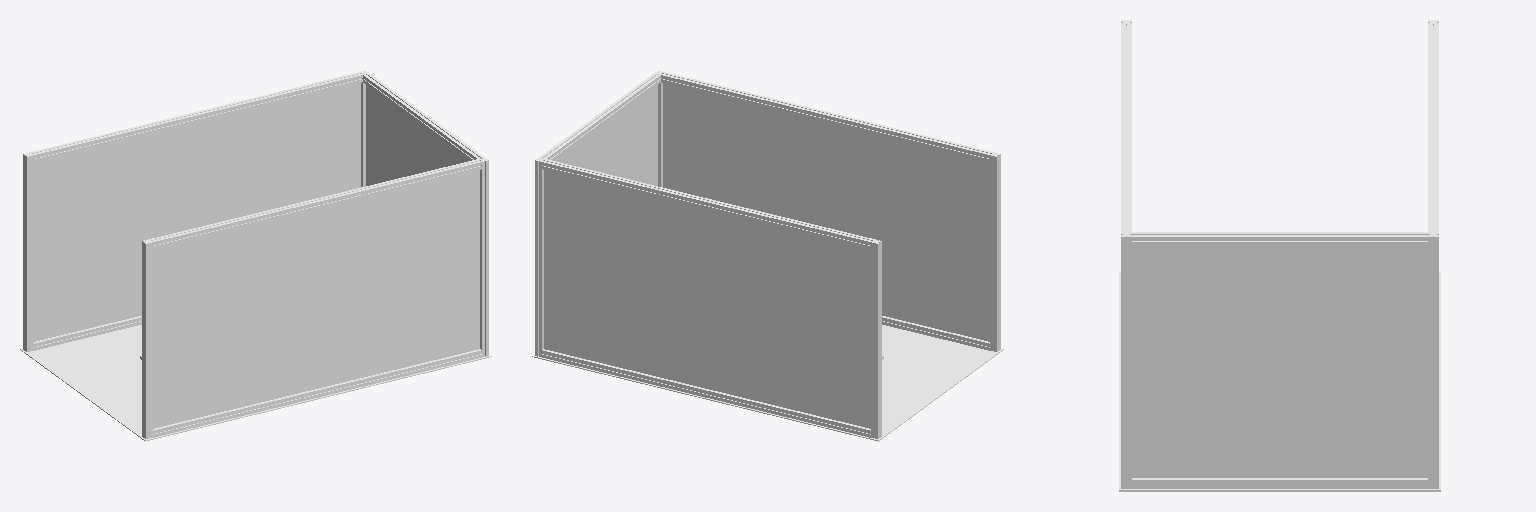
The robot description file, URDF, robot "irb120_workcell":
<?xml version="1.0" ?>
<!-- =================================================================================== -->
<!-- |    This document was autogenerated by xacro from irb120_workcell.xacro          | -->
<!-- |    EDITING THIS FILE BY HAND IS NOT RECOMMENDED                                 | -->
<!-- =================================================================================== -->
<robot name="irb120_workcell" xmlns:xacro="http://ros.org/wiki/xacro">
  <link name="world_frame"/>
  <!-- Defining the robotic enclosure-->
  <link name="enclosure">
    <visual>
      <origin rpy="1.57079633 0 3.14159266" xyz="1 -0.625 0"/>
      <geometry>
        <mesh filename="package://irb120_workcell_config/meshes/enclosure.STL" scale="0.001 0.001 0.001"/>
      </geometry>
      <material name="glass">
        <color rgba="1 1 1 0.3"/>
      </material>
    </visual>
  </link>
  <joint name="enclosure_to_world" type="fixed">
    <parent link="world_frame"/>
    <child link="enclosure"/>
    <origin rpy="0 0 0" xyz="0.45 0 0"/>
  </joint>
  <!-- Defining the robot and mounting it in the enclosure -->
  <link name="base_link">
    <visual>
      <origin rpy="1.57079633 0 0" xyz="0 0 0"/>
      <geometry>
        <mesh filename="package://abb_irb120_support/meshes/irb120/visual/base_link.stl" scale="0.0254 0.0254 0.0254"/>
      </geometry>
      <material name="abb_orange">
        <color rgba="1 0.43 0 1"/>
      </material>
    </visual>
    <collision>
      <geometry>
        <mesh filename="package://abb_irb120_support/meshes/irb120/collision/base_link.stl" scale="0.0254 0.0254 0.0254"/>
      </geometry>
      <material name="yellow">
        <color rgba="0 1 1 1"/>
      </material>
    </collision>
  </link>
  <link name="link_1">
    <visual>
      <origin rpy="1.57079633 0 0" xyz="0 0 -0.17649952"/>
      <geometry>
        <mesh filename="package://abb_irb120_support/meshes/irb120/visual/link_1.stl" scale="0.0254 0.0254 0.0254"/>
      </geometry>
      <material name="abb_orange"/>
    </visual>
    <collision>
      <origin rpy="1.57079633 0 0" xyz="0 0 -0.17649952"/>
      <geometry>
        <mesh filename="package://abb_irb120_support/meshes/irb120/collision/link_1.stl" scale="0.0254 0.0254 0.0254"/>
      </geometry>
      <material name="yellow"/>
    </collision>
  </link>
  <link name="link_2">
    <visual>
      <origin rpy="1.57079633 0 0" xyz="1.54358428872e-06 -0.115499748015 0.269999754796"/>
      <geometry>
        <mesh filename="package://abb_irb120_support/meshes/irb120/visual/link_2.stl" scale="0.0254 0.0254 0.0254"/>
      </geometry>
      <material name="abb_orange"/>
    </visual>
    <collision>
      <origin rpy="1.57079633 0 0" xyz="1.54358428872e-06 -0.115499748015 0.269999754796"/>
      <geometry>
        <mesh filename="package://abb_irb120_support/meshes/irb120/collision/link_2.stl" scale="0.0254 0.0254 0.0254"/>
      </geometry>
      <material name="yellow"/>
    </collision>
  </link>
  <link name="link_3">
    <visual>
      <origin rpy="1.57079633 0 0" xyz="0.071952848745 -0.0589997805382 -0.0661526901756"/>
      <geometry>
        <mesh filename="package://abb_irb120_support/meshes/irb120/visual/link_3.stl" scale="0.0254 0.0254 0.0254"/>
      </geometry>
      <material name="abb_orange"/>
    </visual>
    <collision>
      <origin rpy="1.57079633 0 0" xyz="0.071952848745 -0.0589997805382 -0.0661526901756"/>
      <geometry>
        <mesh filename="package://abb_irb120_support/meshes/irb120/collision/link_3.stl" scale="0.0254 0.0254 0.0254"/>
      </geometry>
      <material name="yellow"/>
    </collision>
  </link>
  <link name="link_4">
    <visual>
      <origin rpy="1.57079633 0 0" xyz="500.302187012 0.000313229561613 0.00151561224702"/>
      <geometry>
        <mesh filename="package://abb_irb120_support/meshes/irb120/visual/link_4.stl" scale="0.0254 0.0254 0.0254"/>
      </geometry>
      <material name="abb_orange"/>
    </visual>
    <collision>
      <origin rpy="1.57079633 0 0" xyz="500.302187012 0.000313229561613 0.00151561224702"/>
      <geometry>
        <mesh filename="package://abb_irb120_support/meshes/irb120/collision/link_4.stl" scale="0.0254 0.0254 0.0254"/>
      </geometry>
      <material name="yellow"/>
    </collision>
  </link>
  <link name="link_5">
    <visual>
      <origin rpy="1.57079633 0 0" xyz="-0.301998488439 0.0619993114233 -0.629998750685"/>
      <geometry>
        <mesh filename="package://abb_irb120_support/meshes/irb120/visual/link_5.stl" scale="0.0254 0.0254 0.0254"/>
      </geometry>
      <material name="abb_orange"/>
    </visual>
    <collision>
      <origin rpy="1.57079633 0 0" xyz="-0.301998488439 0.0619993114233 -0.629998750685"/>
      <geometry>
        <mesh filename="package://abb_irb120_support/meshes/irb120/collision/link_5.stl" scale="0.0254 0.0254 0.0254"/>
      </geometry>
      <material name="yellow"/>
    </collision>
  </link>
  <link name="link_6">
    <visual>
      <origin rpy="1.57079633 0 0" xyz="-2.74896335695e-07 0.0130000906507 -8.57788299224e-07"/>
      <geometry>
        <mesh filename="package://abb_irb120_support/meshes/irb120/visual/link_6.stl" scale="0.0254 0.0254 0.0254"/>
      </geometry>
      <material name="abb_orange"/>
    </visual>
    <collision>
      <origin rpy="1.57079633 0 0" xyz="-2.74896335695e-07 0.0130000906507 -8.57788299224e-07"/>
      <geometry>
        <mesh filename="package://abb_irb120_support/meshes/irb120/collision/link_6.stl" scale="0.0254 0.0254 0.0254"/>
      </geometry>
      <material name="yellow"/>
    </collision>
  </link>
  <link name="tool0"/>
  <joint name="joint_1" type="revolute">
    <origin rpy="-3.14159265359 -3.14159265359 3.14159265359" xyz="0 8.0162399451E-005 0.17649952"/>
    <parent link="base_link"/>
    <child link="link_1"/>
    <axis xyz="0 0 1"/>
    <limit effort="300" lower="-2.88" upper="2.88" velocity="4.36"/>
    <calibration falling="0" rising="0"/>
    <dynamics damping="0" friction="0"/>
  </joint>
  <joint name="joint_2" type="revolute">
    <origin rpy="3.14159265359 -3.14159265359 0" xyz="0 -0.0574996276953 0.1134999"/>
    <parent link="link_1"/>
    <child link="link_2"/>
    <axis xyz="0 -1 0"/>
    <limit effort="0" lower="-1.9199" upper="1.9199" velocity="4.36"/>
    <calibration falling="0" rising="0"/>
    <dynamics damping="0" friction="0"/>
  </joint>
  <joint name="joint_3" type="revolute">
    <origin rpy="3.14159265359 -3.14159265359 0" xyz="0 -0.108 0.270000153642"/>
    <parent link="link_2"/>
    <child link="link_3"/>
    <axis xyz="0 1 0"/>
    <limit effort="0" lower="-1.9199" upper="1.2217" velocity="4.36"/>
    <calibration falling="0" rising="0"/>
    <dynamics damping="0" friction="0"/>
  </joint>
  <joint name="joint_4" type="revolute">
    <origin rpy="0 0 0" xyz="-500.000188071 -0.060593734446 0.0701403024607"/>
    <parent link="link_3"/>
    <child link="link_4"/>
    <axis xyz="1 0 0"/>
    <limit effort="0" lower="-2.7925" upper="2.7925" velocity="5.585"/>
    <calibration falling="0" rising="0"/>
    <dynamics damping="0" friction="0"/>
  </joint>
  <joint name="joint_5" type="revolute">
    <origin rpy="0 0 0" xyz="500.302186066 -0.0616850168905 0.00151566707848"/>
    <parent link="link_4"/>
    <child link="link_5"/>
    <axis xyz="0 1 0"/>
    <limit effort="0" lower="-2.0944" upper="2.0944" velocity="5.585"/>
    <calibration falling="0" rising="0"/>
    <dynamics damping="0" friction="0"/>
  </joint>
  <joint name="joint_6" type="revolute">
    <origin rpy="-1.5707961734 1.57079621992 0" xyz="0.072000865279 0.0620001796247 0"/>
    <parent link="link_5"/>
    <child link="link_6"/>
    <axis xyz="0 -1 0"/>
    <limit effort="0" lower="-6.9813" upper="6.9813" velocity="7.33"/>
    <calibration falling="0" rising="0"/>
    <dynamics damping="0" friction="0"/>
  </joint>
  <joint name="joint_6-tool0" type="fixed">
    <parent link="link_6"/>
    <child link="tool0"/>
    <origin rpy="0 0 0" xyz="0 0 0"/>
  </joint>
  <joint name="robot_to_enclosure" type="fixed">
    <parent link="world_frame"/>
    <child link="base_link"/>
    <origin rpy="0 0 0" xyz="0 0 0.025"/>
  </joint>
  <!-- Defining the pegboard and placing it in front of the robot-->
  <link name="pegboard">
    <visual>
      <origin rpy="1.57079633 0 -1.57079633" xyz="0.225 0.15 0.01"/>
      <geometry>
        <mesh filename="package://irb120_workcell_config/meshes/pegboard.STL" scale="0.001 0.001 0.001"/>
      </geometry>
      <material name="blue">
        <color rgba="0.3 0.3 1 1"/>
      </material>
    </visual>
  </link>
  <joint name="pegboard_to_floor" type="fixed">
    <parent link="enclosure"/>
    <child link="pegboard"/>
    <origin rpy="0 0 0" xyz="-0.13 0 -0.005"/>
  </joint>
  <!-- Defining the robotic manipulator and mounting it to the robot -->
  <!--   <xacro:s-model_mesh prefix="g_"/>
  <joint name="gripper_to_robot" type="fixed">
    <parent link="tool0"/>
    <child link="g_palm"/>
    <origin xyz="0 -0.161 0" rpy="1.570 -2.356 0"/>
  </joint>
 -->
</robot>

--- Facts derived from the render (not from the file) ---
Views: 3 orthographic renders of the robot side by side, from view 1: azimuth 30°, elevation 25°; view 2: azimuth 150°, elevation 25°; view 3: azimuth 270°, elevation 25°.
Model irb120_workcell with 11 links and 10 joints (6 revolute, 4 fixed), rooted at world_frame, posed every joint at zero.
Links seen in each view (by area): view 1: enclosure; view 2: enclosure; view 3: enclosure.
Link boxes in pixels (x1,y1,x2,y2): enclosure: [20, 70, 491, 441]; enclosure: [532, 70, 1003, 441]; enclosure: [1119, 20, 1440, 491].
Size in the robot's own frame: 2 by 1.25 by 1.08 metres.
2 mesh visuals loaded from 9 distinct referenced files (2 binary STL); not drawn: 7 (reference not matched to a file when rendering).